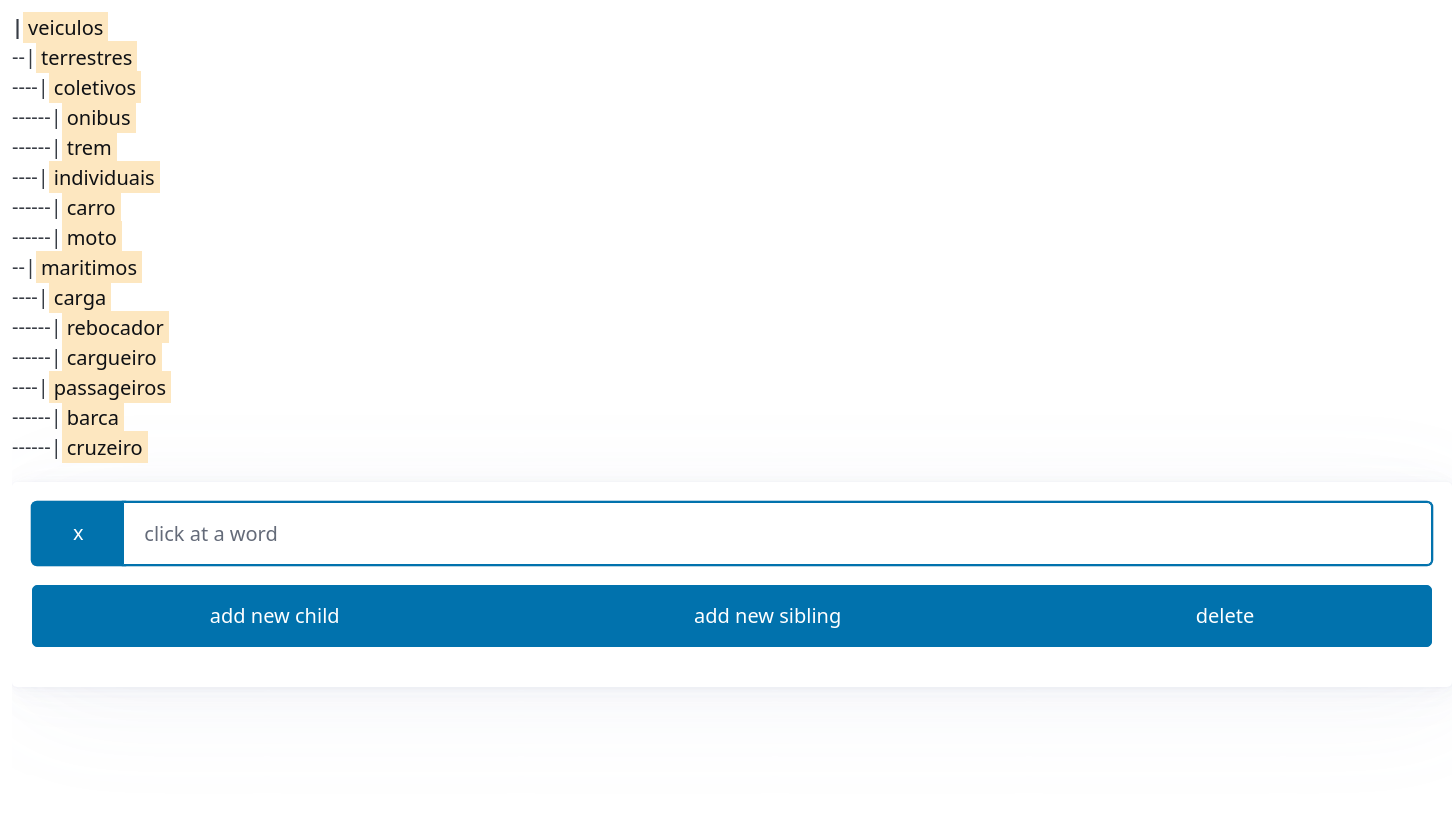
Test: renames empty branch
Click the text "terrestres": x=87, y=56 [36,40,137,72]
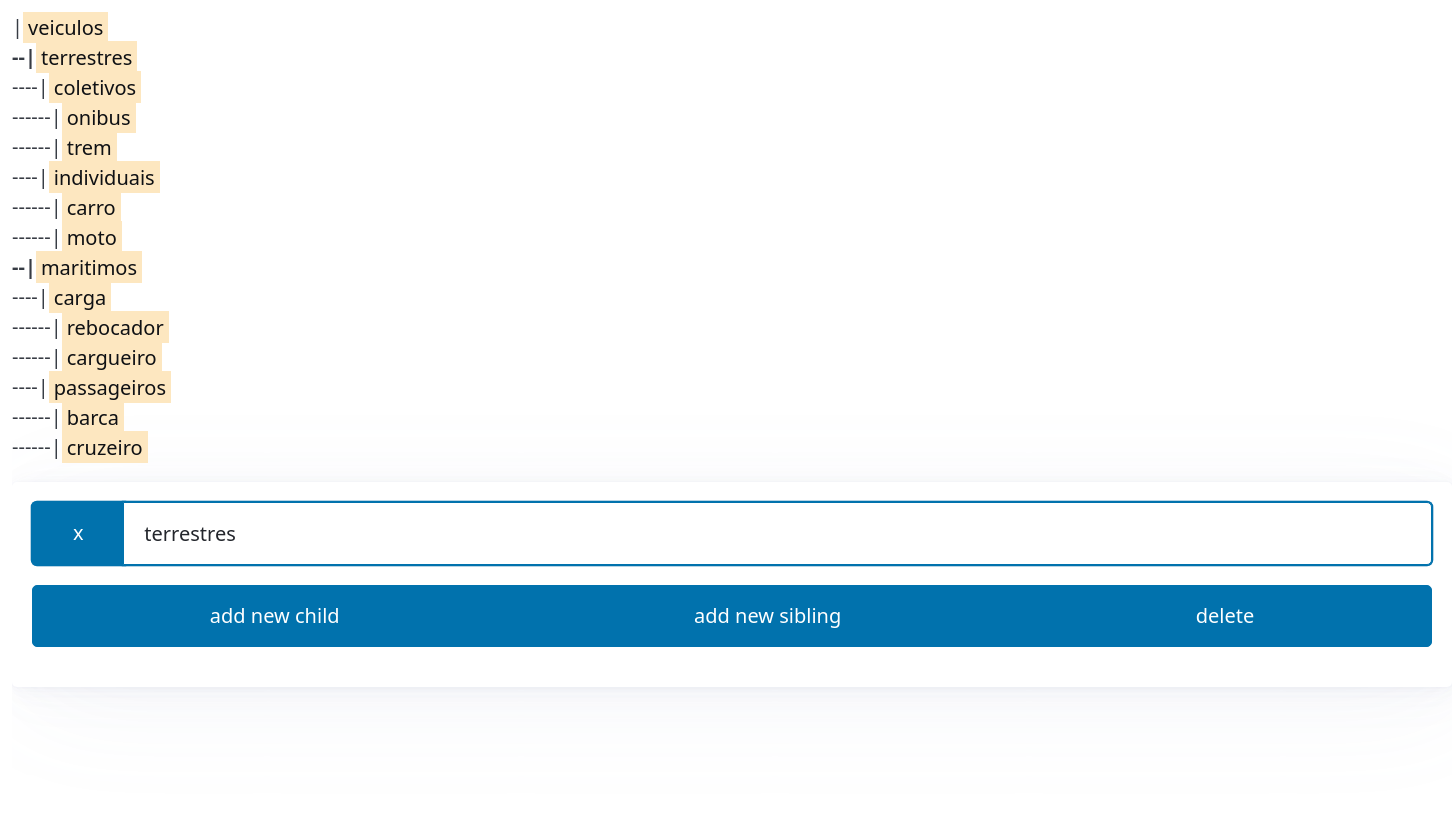
Expected: the field with placeholder "click at a word" holds "terrestres", [123,502,1432,564]
Click the button "x": x=78, y=533 [32,502,125,564]
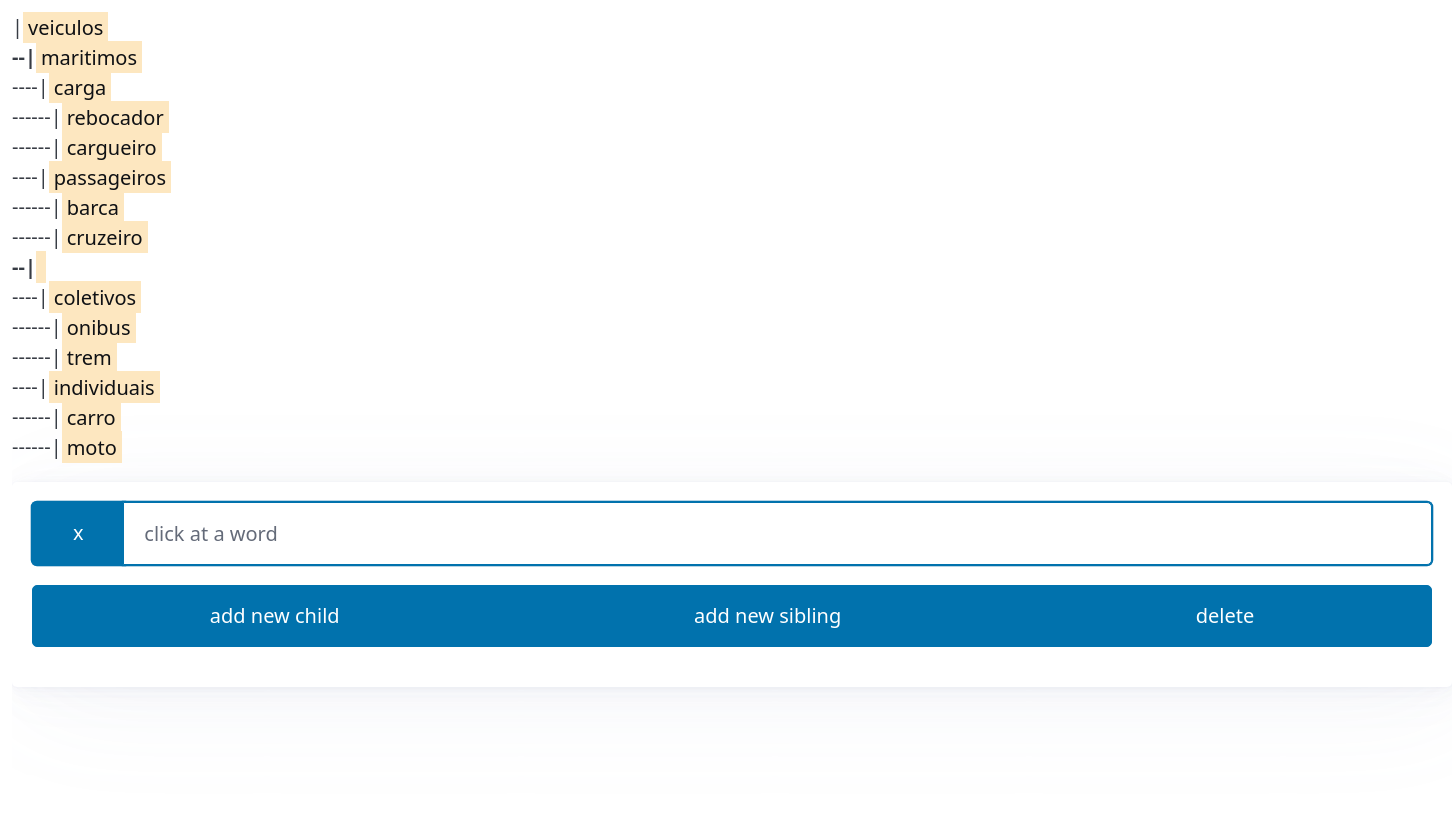
Expected: the field with placeholder "click at a word" is empty, [123,502,1432,564]
Click the text "maritimos": x=89, y=56 [36,40,142,72]
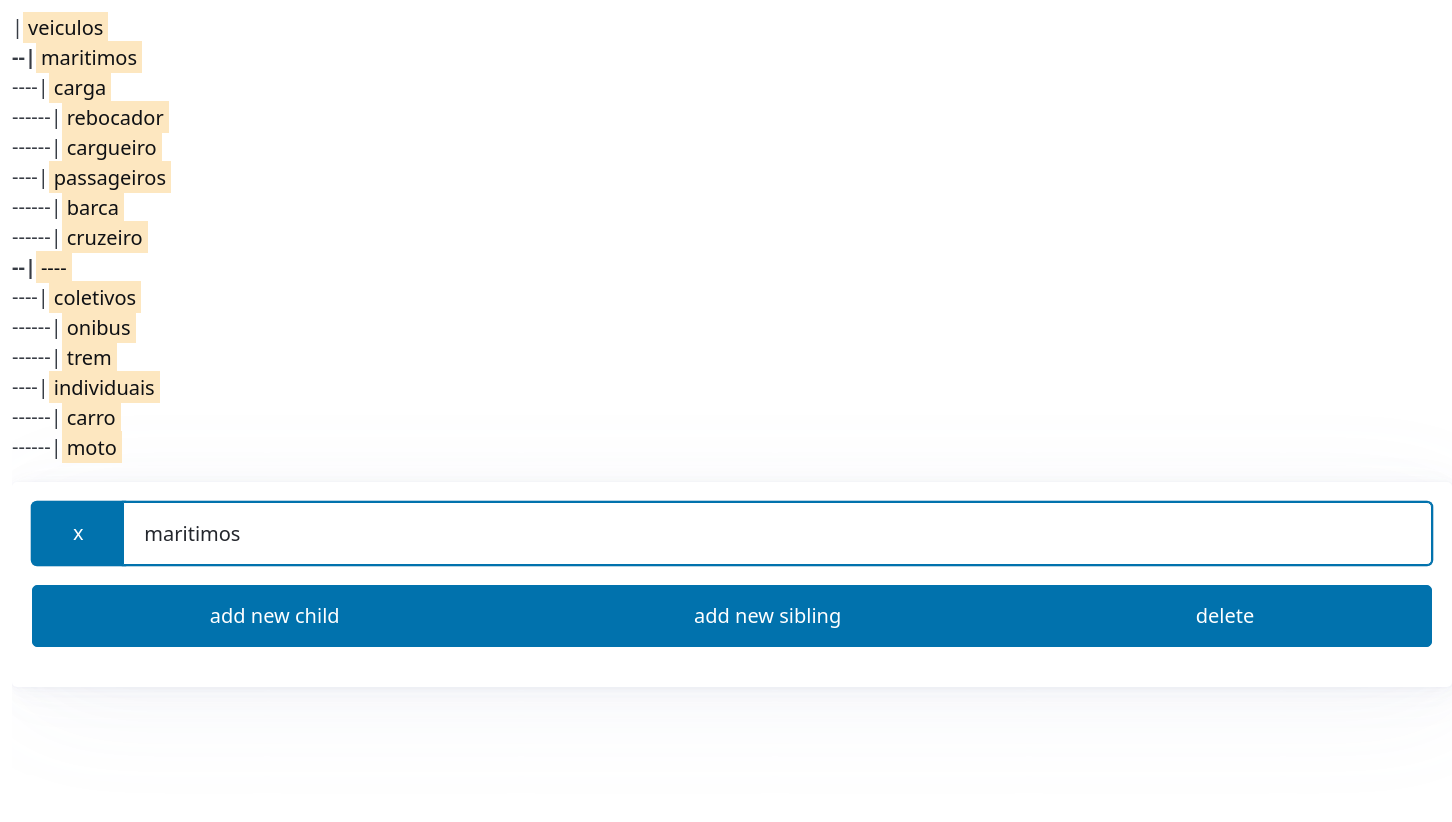
Expected: the text "----" is shown, [36,250,72,282]
